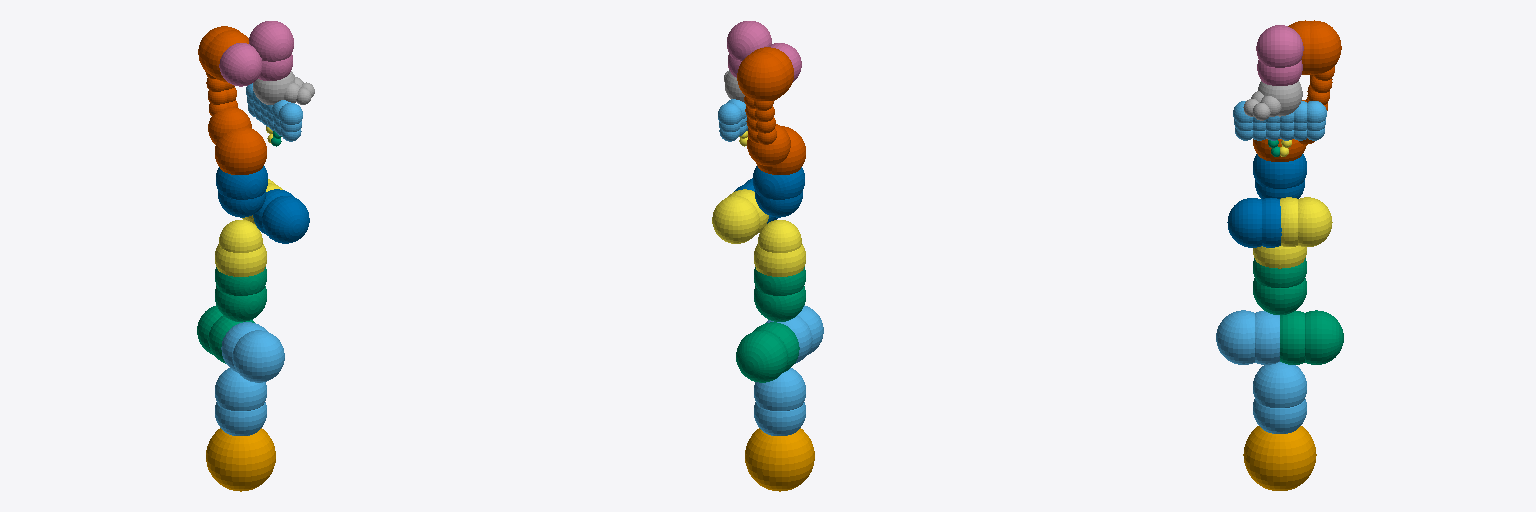
URDF robot description (panda):
<?xml version='1.0' encoding='utf-8'?>
<robot name="panda" path="assets/panda/panda.urdf">
	<link name="panda_link0">
		<inertial>
			<origin rpy="0 0 0" xyz="0 0 0.05" />
			<mass value="2.9" />
			<inertia ixx="0.1" ixy="0" ixz="0" iyy="0.1" iyz="0" izz="0.1" />
		</inertial>
		<collision>
			<geometry>
				<sphere radius="0.08" />
			</geometry>
			<origin xyz="0.0 0.0 0.05" rpy="0 0 0" />
		</collision>
	<visual name="panda_link0_visual_1">
			<geometry>
				<sphere radius="0.08" />
			</geometry>
			<origin xyz="0.0 0.0 0.05" rpy="0 0 0" />
		</visual>
	</link>
	<link name="panda_link1">
		<inertial>
			<origin rpy="0 0 0" xyz="0 -0.04 -0.05" />
			<mass value="2.7" />
			<inertia ixx="0.1" ixy="0" ixz="0" iyy="0.1" iyz="0" izz="0.1" />
		</inertial>
		<collision>
			<geometry>
				<sphere radius="0.06" />
			</geometry>
			<origin xyz="0.0 -0.08 0.0" rpy="0 0 0" />
		</collision>
		<collision>
			<geometry>
				<sphere radius="0.06" />
			</geometry>
			<origin xyz="0.0 -0.03 0.0" rpy="0 0 0" />
		</collision>
		<collision>
			<geometry>
				<sphere radius="0.06" />
			</geometry>
			<origin xyz="0.0 0.0 -0.12" rpy="0 0 0" />
		</collision>
		<collision>
			<geometry>
				<sphere radius="0.06" />
			</geometry>
			<origin xyz="0.0 0.0 -0.17" rpy="0 0 0" />
		</collision>
	<visual name="panda_link1_visual_1">
			<geometry>
				<sphere radius="0.06" />
			</geometry>
			<origin xyz="0.0 -0.08 0.0" rpy="0 0 0" />
		</visual>
		<visual name="panda_link1_visual_2">
			<geometry>
				<sphere radius="0.06" />
			</geometry>
			<origin xyz="0.0 -0.03 0.0" rpy="0 0 0" />
		</visual>
		<visual name="panda_link1_visual_3">
			<geometry>
				<sphere radius="0.06" />
			</geometry>
			<origin xyz="0.0 0.0 -0.12" rpy="0 0 0" />
		</visual>
		<visual name="panda_link1_visual_4">
			<geometry>
				<sphere radius="0.06" />
			</geometry>
			<origin xyz="0.0 0.0 -0.17" rpy="0 0 0" />
		</visual>
	</link>
	<link name="panda_link2">
		<inertial>
			<origin rpy="0 0 0" xyz="0 -0.04 0.06" />
			<mass value="2.73" />
			<inertia ixx="0.1" ixy="0" ixz="0" iyy="0.1" iyz="0" izz="0.1" />
		</inertial>
		<collision>
			<geometry>
				<sphere radius="0.06" />
			</geometry>
			<origin xyz="0.0 0.0 0.03" rpy="0 0 0" />
		</collision>
		<collision>
			<geometry>
				<sphere radius="0.06" />
			</geometry>
			<origin xyz="0.0 0.0 0.08" rpy="0 0 0" />
		</collision>
		<collision>
			<geometry>
				<sphere radius="0.06" />
			</geometry>
			<origin xyz="0.0 -0.12 0.0" rpy="0 0 0" />
		</collision>
		<collision>
			<geometry>
				<sphere radius="0.06" />
			</geometry>
			<origin xyz="0.0 -0.17 0.0" rpy="0 0 0" />
		</collision>
	<visual name="panda_link2_visual_1">
			<geometry>
				<sphere radius="0.06" />
			</geometry>
			<origin xyz="0.0 0.0 0.03" rpy="0 0 0" />
		</visual>
		<visual name="panda_link2_visual_2">
			<geometry>
				<sphere radius="0.06" />
			</geometry>
			<origin xyz="0.0 0.0 0.08" rpy="0 0 0" />
		</visual>
		<visual name="panda_link2_visual_3">
			<geometry>
				<sphere radius="0.06" />
			</geometry>
			<origin xyz="0.0 -0.12 0.0" rpy="0 0 0" />
		</visual>
		<visual name="panda_link2_visual_4">
			<geometry>
				<sphere radius="0.06" />
			</geometry>
			<origin xyz="0.0 -0.17 0.0" rpy="0 0 0" />
		</visual>
	</link>
	<link name="panda_link3">
		<inertial>
			<origin rpy="0 0 0" xyz="0.01 0.01 -0.05" />
			<mass value="2.04" />
			<inertia ixx="0.1" ixy="0" ixz="0" iyy="0.1" iyz="0" izz="0.1" />
		</inertial>
		<collision>
			<geometry>
				<sphere radius="0.06" />
			</geometry>
			<origin xyz="0.0 0.0 -0.1" rpy="0 0 0" />
		</collision>
		<collision>
			<geometry>
				<sphere radius="0.05" />
			</geometry>
			<origin xyz="0.0 0.0 -0.06" rpy="0 0 0" />
		</collision>
		<collision>
			<geometry>
				<sphere radius="0.055" />
			</geometry>
			<origin xyz="0.08 0.06 0.0" rpy="0 0 0" />
		</collision>
		<collision>
			<geometry>
				<sphere radius="0.055" />
			</geometry>
			<origin xyz="0.08 0.02 0.0" rpy="0 0 0" />
		</collision>
	<visual name="panda_link3_visual_1">
			<geometry>
				<sphere radius="0.06" />
			</geometry>
			<origin xyz="0.0 0.0 -0.1" rpy="0 0 0" />
		</visual>
		<visual name="panda_link3_visual_2">
			<geometry>
				<sphere radius="0.05" />
			</geometry>
			<origin xyz="0.0 0.0 -0.06" rpy="0 0 0" />
		</visual>
		<visual name="panda_link3_visual_3">
			<geometry>
				<sphere radius="0.055" />
			</geometry>
			<origin xyz="0.08 0.06 0.0" rpy="0 0 0" />
		</visual>
		<visual name="panda_link3_visual_4">
			<geometry>
				<sphere radius="0.055" />
			</geometry>
			<origin xyz="0.08 0.02 0.0" rpy="0 0 0" />
		</visual>
	</link>
	<link name="panda_link4">
		<inertial>
			<origin rpy="0 0 0" xyz="-0.03 0.03 0.02" />
			<mass value="2.08" />
			<inertia ixx="0.1" ixy="0" ixz="0" iyy="0.1" iyz="0" izz="0.1" />
		</inertial>
		<collision>
			<geometry>
				<sphere radius="0.06" />
			</geometry>
			<origin xyz="-0.08 0.095 0.0" rpy="0 0 0" />
		</collision>
		<collision>
			<geometry>
				<sphere radius="0.055" />
			</geometry>
			<origin xyz="0.0 0.0 0.02" rpy="0 0 0" />
		</collision>
		<collision>
			<geometry>
				<sphere radius="0.055" />
			</geometry>
			<origin xyz="0.0 0.0 0.06" rpy="0 0 0" />
		</collision>
		<collision>
			<geometry>
				<sphere radius="0.055" />
			</geometry>
			<origin xyz="-0.08 0.06 0.0" rpy="0 0 0" />
		</collision>
	<visual name="panda_link4_visual_1">
			<geometry>
				<sphere radius="0.06" />
			</geometry>
			<origin xyz="-0.08 0.095 0.0" rpy="0 0 0" />
		</visual>
		<visual name="panda_link4_visual_2">
			<geometry>
				<sphere radius="0.055" />
			</geometry>
			<origin xyz="0.0 0.0 0.02" rpy="0 0 0" />
		</visual>
		<visual name="panda_link4_visual_3">
			<geometry>
				<sphere radius="0.055" />
			</geometry>
			<origin xyz="0.0 0.0 0.06" rpy="0 0 0" />
		</visual>
		<visual name="panda_link4_visual_4">
			<geometry>
				<sphere radius="0.055" />
			</geometry>
			<origin xyz="-0.08 0.06 0.0" rpy="0 0 0" />
		</visual>
	</link>
	<link name="panda_link5">
		<inertial>
			<origin rpy="0 0 0" xyz="0 0.04 -0.12" />
			<mass value="3" />
			<inertia ixx="0.1" ixy="0" ixz="0" iyy="0.1" iyz="0" izz="0.1" />
		</inertial>
		<collision>
			<geometry>
				<sphere radius="0.06" />
			</geometry>
			<origin xyz="0.0 0.055 0.0" rpy="0 0 0" />
		</collision>
		<collision>
			<geometry>
				<sphere radius="0.06" />
			</geometry>
			<origin xyz="0.0 0.075 0.0" rpy="0 0 0" />
		</collision>
		<collision>
			<geometry>
				<sphere radius="0.06" />
			</geometry>
			<origin xyz="0.0 0.0 -0.22" rpy="0 0 0" />
		</collision>
		<collision>
			<geometry>
				<sphere radius="0.05" />
			</geometry>
			<origin xyz="0.0 0.05 -0.18" rpy="0 0 0" />
		</collision>
		<collision>
			<geometry>
				<sphere radius="0.025" />
			</geometry>
			<origin xyz="0.01 0.08 -0.14" rpy="0 0 0" />
		</collision>
		<collision>
			<geometry>
				<sphere radius="0.025" />
			</geometry>
			<origin xyz="0.01 0.085 -0.11" rpy="0 0 0" />
		</collision>
		<collision>
			<geometry>
				<sphere radius="0.025" />
			</geometry>
			<origin xyz="0.01 0.09 -0.08" rpy="0 0 0" />
		</collision>
		<collision>
			<geometry>
				<sphere radius="0.025" />
			</geometry>
			<origin xyz="0.01 0.095 -0.05" rpy="0 0 0" />
		</collision>
		<collision>
			<geometry>
				<sphere radius="0.025" />
			</geometry>
			<origin xyz="-0.01 0.08 -0.14" rpy="0 0 0" />
		</collision>
		<collision>
			<geometry>
				<sphere radius="0.025" />
			</geometry>
			<origin xyz="-0.01 0.085 -0.11" rpy="0 0 0" />
		</collision>
		<collision>
			<geometry>
				<sphere radius="0.025" />
			</geometry>
			<origin xyz="-0.01 0.09 -0.08" rpy="0 0 0" />
		</collision>
		<collision>
			<geometry>
				<sphere radius="0.025" />
			</geometry>
			<origin xyz="-0.01 0.095 -0.05" rpy="0 0 0" />
		</collision>
	<visual name="panda_link5_visual_1">
			<geometry>
				<sphere radius="0.06" />
			</geometry>
			<origin xyz="0.0 0.055 0.0" rpy="0 0 0" />
		</visual>
		<visual name="panda_link5_visual_2">
			<geometry>
				<sphere radius="0.06" />
			</geometry>
			<origin xyz="0.0 0.075 0.0" rpy="0 0 0" />
		</visual>
		<visual name="panda_link5_visual_3">
			<geometry>
				<sphere radius="0.06" />
			</geometry>
			<origin xyz="0.0 0.0 -0.22" rpy="0 0 0" />
		</visual>
		<visual name="panda_link5_visual_4">
			<geometry>
				<sphere radius="0.05" />
			</geometry>
			<origin xyz="0.0 0.05 -0.18" rpy="0 0 0" />
		</visual>
		<visual name="panda_link5_visual_5">
			<geometry>
				<sphere radius="0.025" />
			</geometry>
			<origin xyz="0.01 0.08 -0.14" rpy="0 0 0" />
		</visual>
		<visual name="panda_link5_visual_6">
			<geometry>
				<sphere radius="0.025" />
			</geometry>
			<origin xyz="0.01 0.085 -0.11" rpy="0 0 0" />
		</visual>
		<visual name="panda_link5_visual_7">
			<geometry>
				<sphere radius="0.025" />
			</geometry>
			<origin xyz="0.01 0.09 -0.08" rpy="0 0 0" />
		</visual>
		<visual name="panda_link5_visual_8">
			<geometry>
				<sphere radius="0.025" />
			</geometry>
			<origin xyz="0.01 0.095 -0.05" rpy="0 0 0" />
		</visual>
		<visual name="panda_link5_visual_9">
			<geometry>
				<sphere radius="0.025" />
			</geometry>
			<origin xyz="-0.01 0.08 -0.14" rpy="0 0 0" />
		</visual>
		<visual name="panda_link5_visual_10">
			<geometry>
				<sphere radius="0.025" />
			</geometry>
			<origin xyz="-0.01 0.085 -0.11" rpy="0 0 0" />
		</visual>
		<visual name="panda_link5_visual_11">
			<geometry>
				<sphere radius="0.025" />
			</geometry>
			<origin xyz="-0.01 0.09 -0.08" rpy="0 0 0" />
		</visual>
		<visual name="panda_link5_visual_12">
			<geometry>
				<sphere radius="0.025" />
			</geometry>
			<origin xyz="-0.01 0.095 -0.05" rpy="0 0 0" />
		</visual>
	</link>
	<link name="panda_link6">
		<inertial>
			<origin rpy="0 0 0" xyz="0.04 0 0" />
			<mass value="1.3" />
			<inertia ixx="0.1" ixy="0" ixz="0" iyy="0.1" iyz="0" izz="0.1" />
		</inertial>
		<collision>
			<geometry>
				<sphere radius="0.05" />
			</geometry>
			<origin xyz="0.0 0.0 0.0" rpy="0 0 0" />
		</collision>
		<collision>
			<geometry>
				<sphere radius="0.05" />
			</geometry>
			<origin xyz="0.08 -0.01 0.0" rpy="0 0 0" />
		</collision>
		<collision>
			<geometry>
				<sphere radius="0.052" />
			</geometry>
			<origin xyz="0.08 0.035 0.0" rpy="0 0 0" />
		</collision>
	<visual name="panda_link6_visual_1">
			<geometry>
				<sphere radius="0.05" />
			</geometry>
			<origin xyz="0.0 0.0 0.0" rpy="0 0 0" />
		</visual>
		<visual name="panda_link6_visual_2">
			<geometry>
				<sphere radius="0.05" />
			</geometry>
			<origin xyz="0.08 -0.01 0.0" rpy="0 0 0" />
		</visual>
		<visual name="panda_link6_visual_3">
			<geometry>
				<sphere radius="0.052" />
			</geometry>
			<origin xyz="0.08 0.035 0.0" rpy="0 0 0" />
		</visual>
	</link>
	<link name="panda_link7">
		<inertial>
			<origin rpy="0 0 0" xyz="0 0 0.08" />
			<mass value=".2" />
			<inertia ixx="0.1" ixy="0" ixz="0" iyy="0.1" iyz="0" izz="0.1" />
		</inertial>
		<collision>
			<geometry>
				<sphere radius="0.05" />
			</geometry>
			<origin xyz="0.0 0.0 0.07" rpy="0 0 0" />
		</collision>
		<collision>
			<geometry>
				<sphere radius="0.025" />
			</geometry>
			<origin xyz="0.02 0.04 0.08" rpy="0 0 0" />
		</collision>
		<collision>
			<geometry>
				<sphere radius="0.025" />
			</geometry>
			<origin xyz="0.04 0.02 0.08" rpy="0 0 0" />
		</collision>
		<collision>
			<geometry>
				<sphere radius="0.02" />
			</geometry>
			<origin xyz="0.04 0.06 0.085" rpy="0 0 0" />
		</collision>
		<collision>
			<geometry>
				<sphere radius="0.02" />
			</geometry>
			<origin xyz="0.06 0.04 0.085" rpy="0 0 0" />
		</collision>
	<visual name="panda_link7_visual_1">
			<geometry>
				<sphere radius="0.05" />
			</geometry>
			<origin xyz="0.0 0.0 0.07" rpy="0 0 0" />
		</visual>
		<visual name="panda_link7_visual_2">
			<geometry>
				<sphere radius="0.025" />
			</geometry>
			<origin xyz="0.02 0.04 0.08" rpy="0 0 0" />
		</visual>
		<visual name="panda_link7_visual_3">
			<geometry>
				<sphere radius="0.025" />
			</geometry>
			<origin xyz="0.04 0.02 0.08" rpy="0 0 0" />
		</visual>
		<visual name="panda_link7_visual_4">
			<geometry>
				<sphere radius="0.02" />
			</geometry>
			<origin xyz="0.04 0.06 0.085" rpy="0 0 0" />
		</visual>
		<visual name="panda_link7_visual_5">
			<geometry>
				<sphere radius="0.02" />
			</geometry>
			<origin xyz="0.06 0.04 0.085" rpy="0 0 0" />
		</visual>
	</link>
	<link name="panda_link8">
		<inertial>
			<origin rpy="0 0 0" xyz="0 0 0" />
			<mass value="0.0" />
			<inertia ixx="0.1" ixy="0" ixz="0" iyy="0.1" iyz="0" izz="0.1" />
		</inertial>
	</link>
	<link name="panda_hand">
		<inertial>
			<origin rpy="0 0 0" xyz="0 0 0.04" />
			<mass value=".81" />
			<inertia ixx="0.1" ixy="0" ixz="0" iyy="0.1" iyz="0" izz="0.1" />
		</inertial>
		<collision>
			<geometry>
				<sphere radius="0.028" />
			</geometry>
			<origin xyz="0.0 -0.075 0.01" rpy="0 0 0" />
		</collision>
		<collision>
			<geometry>
				<sphere radius="0.028" />
			</geometry>
			<origin xyz="0.0 -0.045 0.01" rpy="0 0 0" />
		</collision>
		<collision>
			<geometry>
				<sphere radius="0.028" />
			</geometry>
			<origin xyz="0.0 -0.015 0.01" rpy="0 0 0" />
		</collision>
		<collision>
			<geometry>
				<sphere radius="0.028" />
			</geometry>
			<origin xyz="0.0 0.015 0.01" rpy="0 0 0" />
		</collision>
		<collision>
			<geometry>
				<sphere radius="0.028" />
			</geometry>
			<origin xyz="0.0 0.045 0.01" rpy="0 0 0" />
		</collision>
		<collision>
			<geometry>
				<sphere radius="0.028" />
			</geometry>
			<origin xyz="0.0 0.075 0.01" rpy="0 0 0" />
		</collision>
		<collision>
			<geometry>
				<sphere radius="0.026" />
			</geometry>
			<origin xyz="0.0 -0.075 0.03" rpy="0 0 0" />
		</collision>
		<collision>
			<geometry>
				<sphere radius="0.026" />
			</geometry>
			<origin xyz="0.0 -0.045 0.03" rpy="0 0 0" />
		</collision>
		<collision>
			<geometry>
				<sphere radius="0.026" />
			</geometry>
			<origin xyz="0.0 -0.015 0.03" rpy="0 0 0" />
		</collision>
		<collision>
			<geometry>
				<sphere radius="0.026" />
			</geometry>
			<origin xyz="0.0 0.015 0.03" rpy="0 0 0" />
		</collision>
		<collision>
			<geometry>
				<sphere radius="0.026" />
			</geometry>
			<origin xyz="0.0 0.045 0.03" rpy="0 0 0" />
		</collision>
		<collision>
			<geometry>
				<sphere radius="0.026" />
			</geometry>
			<origin xyz="0.0 0.075 0.03" rpy="0 0 0" />
		</collision>
		<collision>
			<geometry>
				<sphere radius="0.024" />
			</geometry>
			<origin xyz="0.0 -0.075 0.05" rpy="0 0 0" />
		</collision>
		<collision>
			<geometry>
				<sphere radius="0.024" />
			</geometry>
			<origin xyz="0.0 -0.045 0.05" rpy="0 0 0" />
		</collision>
		<collision>
			<geometry>
				<sphere radius="0.024" />
			</geometry>
			<origin xyz="0.0 -0.015 0.05" rpy="0 0 0" />
		</collision>
		<collision>
			<geometry>
				<sphere radius="0.024" />
			</geometry>
			<origin xyz="0.0 0.015 0.05" rpy="0 0 0" />
		</collision>
		<collision>
			<geometry>
				<sphere radius="0.024" />
			</geometry>
			<origin xyz="0.0 0.045 0.05" rpy="0 0 0" />
		</collision>
		<collision>
			<geometry>
				<sphere radius="0.024" />
			</geometry>
			<origin xyz="0.0 0.075 0.05" rpy="0 0 0" />
		</collision>
	<visual name="panda_hand_visual_1">
			<geometry>
				<sphere radius="0.028" />
			</geometry>
			<origin xyz="0.0 -0.075 0.01" rpy="0 0 0" />
		</visual>
		<visual name="panda_hand_visual_2">
			<geometry>
				<sphere radius="0.028" />
			</geometry>
			<origin xyz="0.0 -0.045 0.01" rpy="0 0 0" />
		</visual>
		<visual name="panda_hand_visual_3">
			<geometry>
				<sphere radius="0.028" />
			</geometry>
			<origin xyz="0.0 -0.015 0.01" rpy="0 0 0" />
		</visual>
		<visual name="panda_hand_visual_4">
			<geometry>
				<sphere radius="0.028" />
			</geometry>
			<origin xyz="0.0 0.015 0.01" rpy="0 0 0" />
		</visual>
		<visual name="panda_hand_visual_5">
			<geometry>
				<sphere radius="0.028" />
			</geometry>
			<origin xyz="0.0 0.045 0.01" rpy="0 0 0" />
		</visual>
		<visual name="panda_hand_visual_6">
			<geometry>
				<sphere radius="0.028" />
			</geometry>
			<origin xyz="0.0 0.075 0.01" rpy="0 0 0" />
		</visual>
		<visual name="panda_hand_visual_7">
			<geometry>
				<sphere radius="0.026" />
			</geometry>
			<origin xyz="0.0 -0.075 0.03" rpy="0 0 0" />
		</visual>
		<visual name="panda_hand_visual_8">
			<geometry>
				<sphere radius="0.026" />
			</geometry>
			<origin xyz="0.0 -0.045 0.03" rpy="0 0 0" />
		</visual>
		<visual name="panda_hand_visual_9">
			<geometry>
				<sphere radius="0.026" />
			</geometry>
			<origin xyz="0.0 -0.015 0.03" rpy="0 0 0" />
		</visual>
		<visual name="panda_hand_visual_10">
			<geometry>
				<sphere radius="0.026" />
			</geometry>
			<origin xyz="0.0 0.015 0.03" rpy="0 0 0" />
		</visual>
		<visual name="panda_hand_visual_11">
			<geometry>
				<sphere radius="0.026" />
			</geometry>
			<origin xyz="0.0 0.045 0.03" rpy="0 0 0" />
		</visual>
		<visual name="panda_hand_visual_12">
			<geometry>
				<sphere radius="0.026" />
			</geometry>
			<origin xyz="0.0 0.075 0.03" rpy="0 0 0" />
		</visual>
		<visual name="panda_hand_visual_13">
			<geometry>
				<sphere radius="0.024" />
			</geometry>
			<origin xyz="0.0 -0.075 0.05" rpy="0 0 0" />
		</visual>
		<visual name="panda_hand_visual_14">
			<geometry>
				<sphere radius="0.024" />
			</geometry>
			<origin xyz="0.0 -0.045 0.05" rpy="0 0 0" />
		</visual>
		<visual name="panda_hand_visual_15">
			<geometry>
				<sphere radius="0.024" />
			</geometry>
			<origin xyz="0.0 -0.015 0.05" rpy="0 0 0" />
		</visual>
		<visual name="panda_hand_visual_16">
			<geometry>
				<sphere radius="0.024" />
			</geometry>
			<origin xyz="0.0 0.015 0.05" rpy="0 0 0" />
		</visual>
		<visual name="panda_hand_visual_17">
			<geometry>
				<sphere radius="0.024" />
			</geometry>
			<origin xyz="0.0 0.045 0.05" rpy="0 0 0" />
		</visual>
		<visual name="panda_hand_visual_18">
			<geometry>
				<sphere radius="0.024" />
			</geometry>
			<origin xyz="0.0 0.075 0.05" rpy="0 0 0" />
		</visual>
	</link>
	<link name="panda_leftfinger">
		<contact>
			<friction_anchor />
			<stiffness value="30000.0" />
			<damping value="1000.0" />
			<spinning_friction value="0.1" />
			<lateral_friction value="1.0" />
		</contact>
		<inertial>
			<origin rpy="0 0 0" xyz="0 0.01 0.02" />
			<mass value="0.1" />
			<inertia ixx="0.1" ixy="0" ixz="0" iyy="0.1" iyz="0" izz="0.1" />
		</inertial>
		<collision>
			<geometry>
				<sphere radius="0.012" />
			</geometry>
			<origin xyz="0.0 0.015 0.022" rpy="0 0 0" />
		</collision>
		<collision>
			<geometry>
				<sphere radius="0.012" />
			</geometry>
			<origin xyz="0.0 0.008 0.044" rpy="0 0 0" />
		</collision>
	<visual name="panda_leftfinger_visual_1">
			<geometry>
				<sphere radius="0.012" />
			</geometry>
			<origin xyz="0.0 0.015 0.022" rpy="0 0 0" />
		</visual>
		<visual name="panda_leftfinger_visual_2">
			<geometry>
				<sphere radius="0.012" />
			</geometry>
			<origin xyz="0.0 0.008 0.044" rpy="0 0 0" />
		</visual>
	</link>
	<link name="panda_rightfinger">
		<contact>
			<friction_anchor />
			<stiffness value="30000.0" />
			<damping value="1000.0" />
			<spinning_friction value="0.1" />
			<lateral_friction value="1.0" />
		</contact>
		<inertial>
			<origin rpy="0 0 0" xyz="0 -0.01 0.02" />
			<mass value="0.1" />
			<inertia ixx="0.1" ixy="0" ixz="0" iyy="0.1" iyz="0" izz="0.1" />
		</inertial>
		<collision>
			<geometry>
				<sphere radius="0.012" />
			</geometry>
			<origin xyz="0.0 -0.015 0.022" rpy="0 0 0" />
		</collision>
		<collision>
			<geometry>
				<sphere radius="0.012" />
			</geometry>
			<origin xyz="0.0 -0.008 0.044" rpy="0 0 0" />
		</collision>
	<visual name="panda_rightfinger_visual_1">
			<geometry>
				<sphere radius="0.012" />
			</geometry>
			<origin xyz="0.0 -0.015 0.022" rpy="0 0 0" />
		</visual>
		<visual name="panda_rightfinger_visual_2">
			<geometry>
				<sphere radius="0.012" />
			</geometry>
			<origin xyz="0.0 -0.008 0.044" rpy="0 0 0" />
		</visual>
	</link>
	<link name="panda_grasptarget">
		<inertial>
			<origin rpy="0 0 0" xyz="0 0 0" />
			<mass value="0.0" />
			<inertia ixx="0.1" ixy="0" ixz="0" iyy="0.1" iyz="0" izz="0.1" />
		</inertial>
	</link>
	<joint name="panda_joint1" type="revolute">
		<safety_controller k_position="100.0" k_velocity="40.0" soft_lower_limit="-2.8973" soft_upper_limit="2.8973" />
		<origin rpy="0 0 0" xyz="0 0 0.333" />
		<parent link="panda_link0" />
		<child link="panda_link1" />
		<axis xyz="0 0 1" />
		<limit effort="87" lower="-2.9671" upper="2.9671" velocity="2.3925" />
	</joint>
	<joint name="panda_joint2" type="revolute">
		<safety_controller k_position="100.0" k_velocity="40.0" soft_lower_limit="-1.7628" soft_upper_limit="1.7628" />
		<origin rpy="-1.57079632679 0 0" xyz="0 0 0" />
		<parent link="panda_link1" />
		<child link="panda_link2" />
		<axis xyz="0 0 1" />
		<limit effort="87" lower="-1.8326" upper="1.8326" velocity="2.3925" />
	</joint>
	<joint name="panda_joint3" type="revolute">
		<safety_controller k_position="100.0" k_velocity="40.0" soft_lower_limit="-2.8973" soft_upper_limit="2.8973" />
		<origin rpy="1.57079632679 0 0" xyz="0 -0.316 0" />
		<parent link="panda_link2" />
		<child link="panda_link3" />
		<axis xyz="0 0 1" />
		<limit effort="87" lower="-2.9671" upper="2.9671" velocity="2.3925" />
	</joint>
	<joint name="panda_joint4" type="revolute">
		<safety_controller k_position="100.0" k_velocity="40.0" soft_lower_limit="-3.0718" soft_upper_limit="-0.0698" />
		<origin rpy="1.57079632679 0 0" xyz="0.0825 0 0" />
		<parent link="panda_link3" />
		<child link="panda_link4" />
		<axis xyz="0 0 1" />
		<limit effort="87" lower="-3.1416" upper="0.0873" velocity="2.3925" />
	</joint>
	<joint name="panda_joint5" type="revolute">
		<safety_controller k_position="100.0" k_velocity="40.0" soft_lower_limit="-2.8973" soft_upper_limit="2.8973" />
		<origin rpy="-1.57079632679 0 0" xyz="-0.0825 0.384 0" />
		<parent link="panda_link4" />
		<child link="panda_link5" />
		<axis xyz="0 0 1" />
		<limit effort="12" lower="-2.9671" upper="2.9671" velocity="2.8710" />
	</joint>
	<joint name="panda_joint6" type="revolute">
		<safety_controller k_position="100.0" k_velocity="40.0" soft_lower_limit="-0.0175" soft_upper_limit="3.7525" />
		<origin rpy="1.57079632679 0 0" xyz="0 0 0" />
		<parent link="panda_link5" />
		<child link="panda_link6" />
		<axis xyz="0 0 1" />
		<limit effort="12" lower="-0.0873" upper="3.8223" velocity="2.8710" />
	</joint>
	<joint name="panda_joint7" type="revolute">
		<safety_controller k_position="100.0" k_velocity="40.0" soft_lower_limit="-2.8973" soft_upper_limit="2.8973" />
		<origin rpy="1.57079632679 0 0" xyz="0.088 0 0" />
		<parent link="panda_link6" />
		<child link="panda_link7" />
		<axis xyz="0 0 1" />
		<limit effort="12" lower="-2.9671" upper="2.9671" velocity="2.8710" />
	</joint>
	<joint name="panda_joint8" type="fixed">
		<origin rpy="0 0 0" xyz="0 0 0.107" />
		<parent link="panda_link7" />
		<child link="panda_link8" />
		<axis xyz="0 0 0" />
	</joint>
	<joint name="panda_hand_joint" type="fixed">
		<parent link="panda_link8" />
		<child link="panda_hand" />
		<origin rpy="0 0 0" xyz="0 0 0" />
	</joint>
	<joint name="panda_finger_joint1" type="fixed">
		<parent link="panda_hand" />
		<child link="panda_leftfinger" />
		<origin rpy="0 0 0" xyz="0 0 0.0584" />
		<axis xyz="0 1 0" />
	</joint>
	<joint name="panda_finger_joint2" type="fixed">
		<parent link="panda_hand" />
		<child link="panda_rightfinger" />
		<origin rpy="0 0 0" xyz="0 0 0.0584" />
		<axis xyz="0 -1 0" />
		<mimic joint="panda_finger_joint1" />
	</joint>
	<joint name="panda_grasptarget_hand" type="fixed">
		<parent link="panda_hand" />
		<child link="panda_grasptarget" />
		<origin rpy="0 0 0" xyz="0 0 0.105" />
	</joint>
</robot>

--- What the picture shows (computed from the rendered views, not written in the file) ---
The picture shows the robot from 3 angles, left to right: view 1: azimuth 30°, elevation 25°; view 2: azimuth 150°, elevation 25°; view 3: azimuth 270°, elevation 25°; orthographic projection.
Model panda with 13 links and 12 joints (7 revolute, 5 fixed), rooted at panda_link0, posed all joints at 0.
Links seen in each view (by area): view 1: panda_link1, panda_link5, panda_link4, panda_link6, panda_link0, panda_link2, panda_link3, panda_hand, panda_link7; view 2: panda_link5, panda_link2, panda_link3, panda_link1, panda_link0, panda_link4, panda_link6, panda_hand; view 3: panda_link1, panda_link2, panda_link4, panda_link0, panda_link5, panda_link3, panda_hand, panda_link6, panda_link7.
Boxes of the visible links, x1,y1,x2,y2 form: panda_link1: [215, 322, 284, 435]; panda_link5: [198, 26, 266, 174]; panda_link4: [216, 166, 309, 243]; panda_link6: [219, 21, 293, 86]; panda_link0: [206, 428, 275, 491]; panda_link2: [197, 267, 266, 363]; panda_link3: [215, 179, 282, 276]; panda_hand: [246, 83, 302, 141]; panda_link7: [253, 71, 314, 104]; panda_link5: [737, 47, 805, 174]; panda_link2: [736, 267, 805, 382]; panda_link3: [712, 189, 805, 276]; panda_link1: [754, 305, 823, 435]; panda_link0: [745, 428, 814, 491]; panda_link4: [734, 166, 804, 223]; panda_link6: [727, 21, 801, 81]; panda_hand: [718, 99, 747, 141]; panda_link1: [1216, 310, 1306, 433]; panda_link2: [1253, 258, 1343, 364]; panda_link4: [1227, 154, 1306, 247]; panda_link0: [1243, 426, 1316, 490]; panda_link5: [1253, 20, 1341, 161]; panda_link3: [1253, 197, 1332, 268]; panda_hand: [1233, 101, 1326, 140]; panda_link6: [1256, 25, 1303, 85]; panda_link7: [1243, 81, 1302, 120].
Bounding box of the posed robot: 0.248 × 0.28 × 1.15 m (x, y, z).
Geometry: primitives only (box / cylinder / sphere), no mesh files.